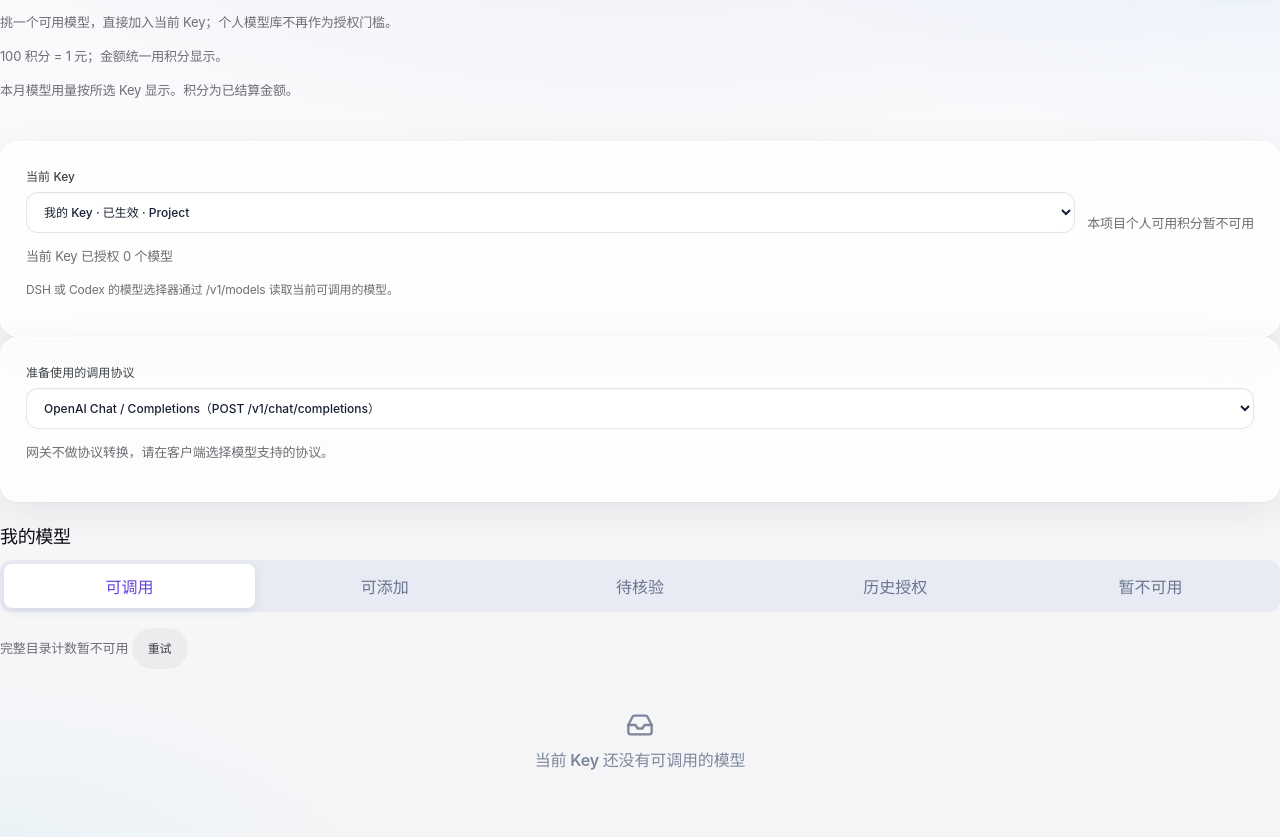
StudentModels key model states › allows an unverified model but shows a warning instead of a green callable badge
What coordinates should you click on to do the following:
click the tab "可添加"
I would click on:
 (385, 586)
Its box is [259,564,510,608].
(page scrolled)
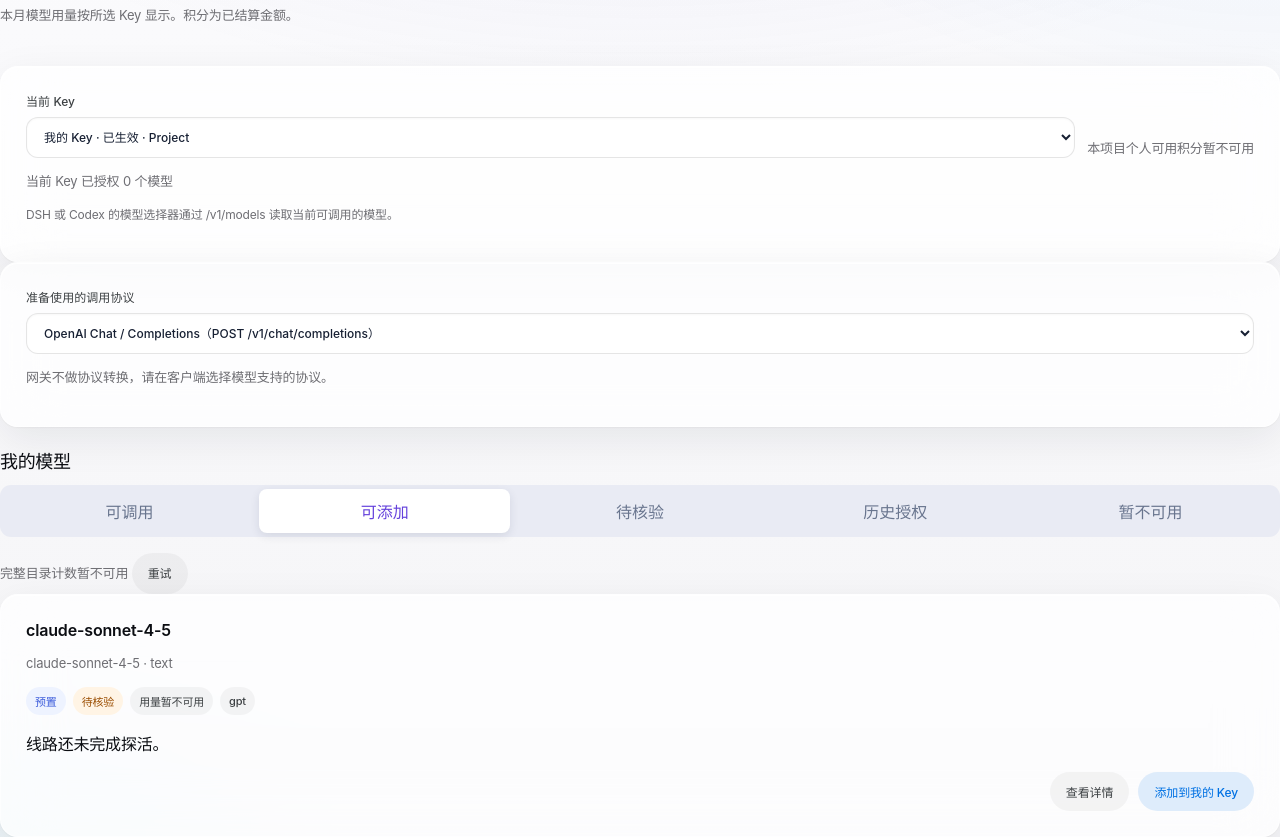
Now the text with test id "model-availability" reads "待核验", box [82,695,114,709]
What coordinates should you click on to do the following:
click the button with test id "sync-key-model"
I would click on:
 (1196, 792)
Its box is [1138,772,1254,811].
(page scrolled)
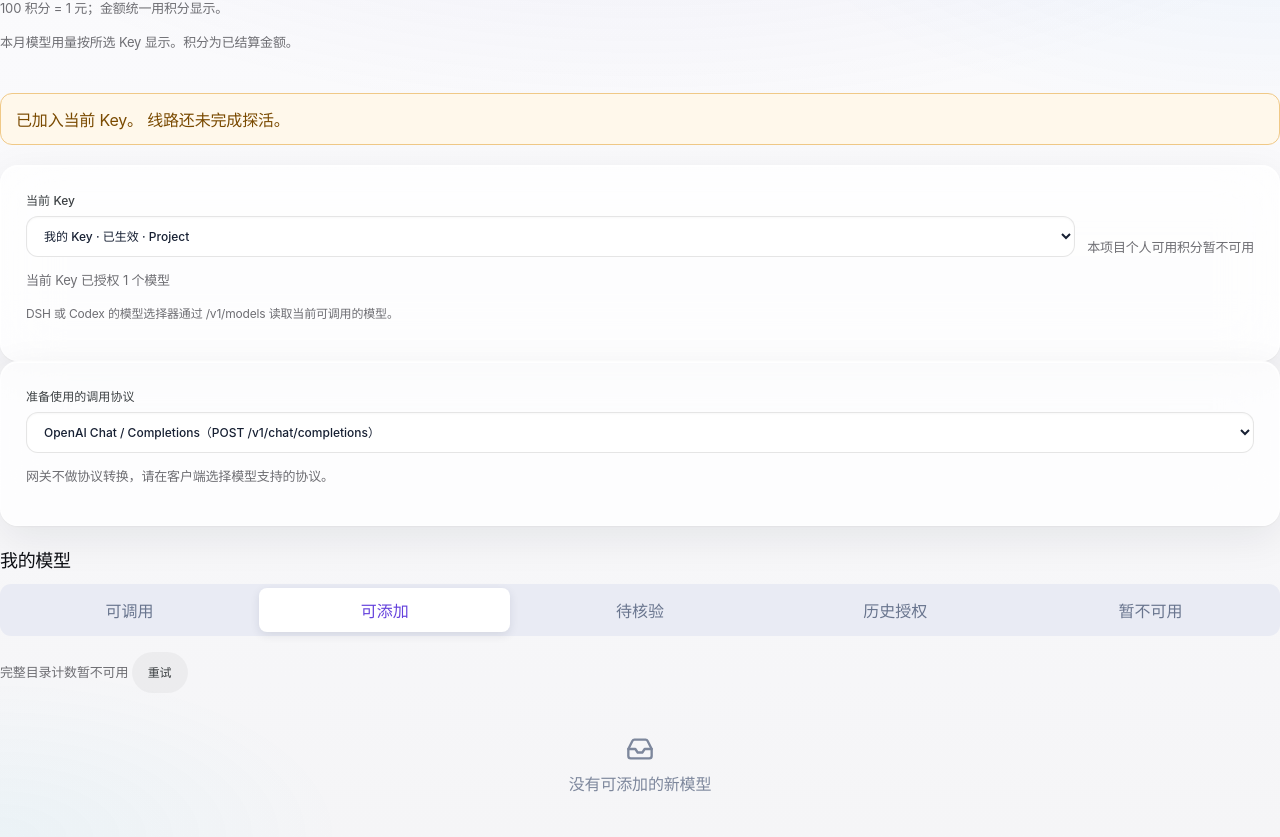
Now the message "已加入当前 Key。 线路还未完成探活。" is shown, box [0,93,1279,145]
What coordinates should you click on to do the following:
click the tab "待核验"
I would click on:
 (640, 610)
Its box is [514,588,766,632].
(page scrolled)
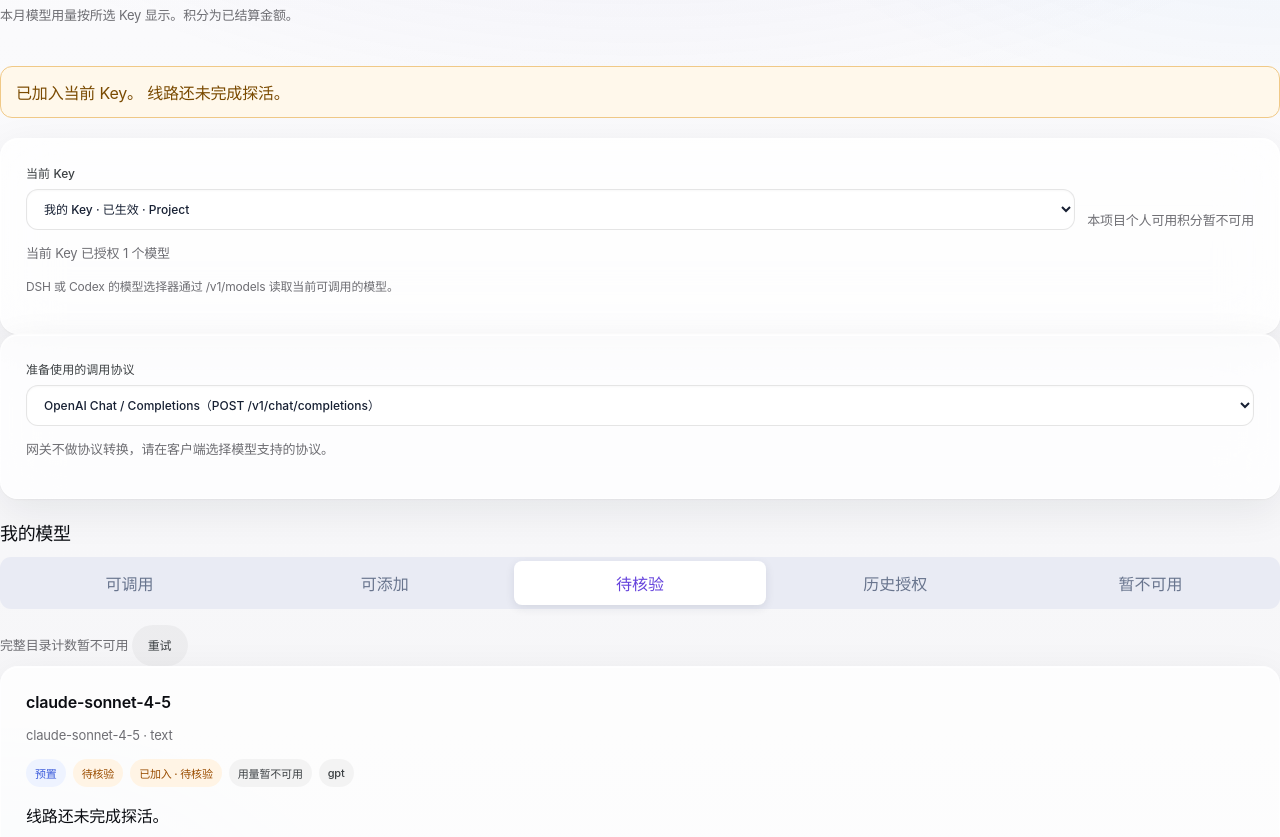
Now the text with test id "model-key-status" reads "已加入 · 待核验", box [139,767,213,781]
